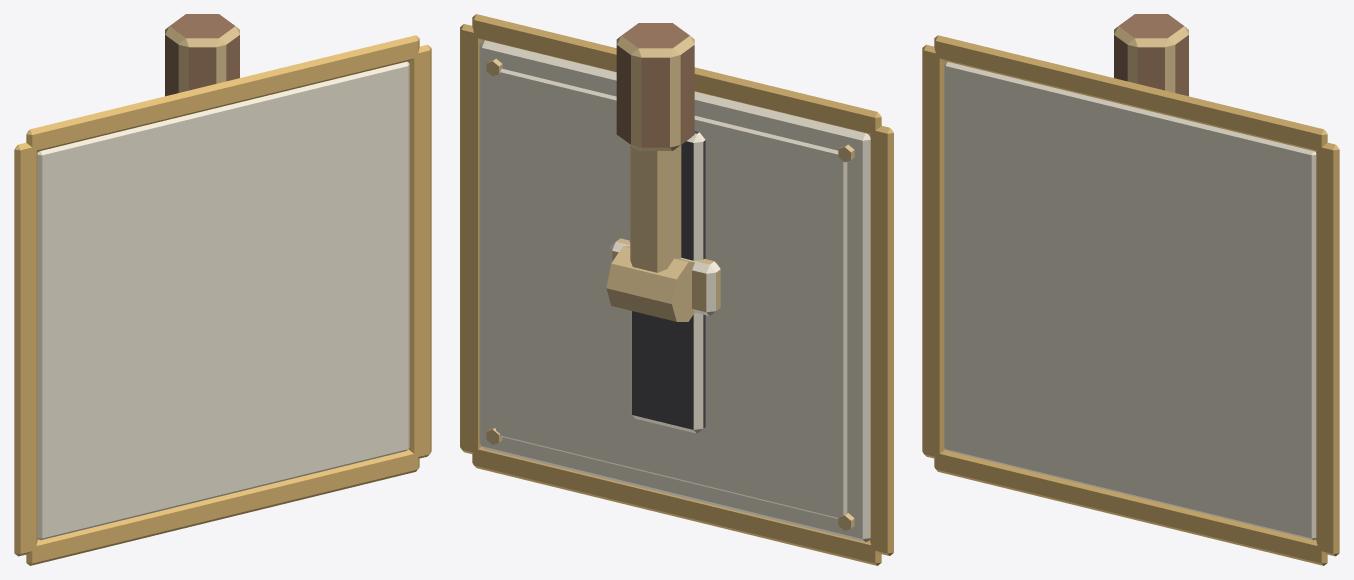
The model's file is Ctl_Lever.fbx.
The picture shows the model from 3 angles, left to right: view 1: azimuth 30°, elevation 25°; view 2: azimuth 150°, elevation 25°; view 3: azimuth 330°, elevation 25°; orthographic projection. The views are drawn at different scales.
Parts seen in each view (by area): view 1: Ctl_Lever, Ctl_Lever_Frame, Moving.003; view 2: Ctl_Lever, Ctl_Lever_Frame, Moving.003; view 3: Ctl_Lever, Ctl_Lever_Frame, Moving.003.
Boxes of the visible parts, left/top/right/bottom form: Ctl_Lever: left=37, top=61, right=409, bottom=540; Ctl_Lever_Frame: left=14, top=35, right=431, bottom=565; Moving.003: left=165, top=14, right=239, bottom=96; Ctl_Lever: left=479, top=40, right=870, bottom=542; Ctl_Lever_Frame: left=460, top=14, right=893, bottom=565; Moving.003: left=606, top=23, right=694, bottom=321; Ctl_Lever: left=944, top=61, right=1316, bottom=540; Ctl_Lever_Frame: left=922, top=35, right=1339, bottom=565; Moving.003: left=1114, top=14, right=1188, bottom=96.
Bounding box in the file's own units: 1.06 × 1.16 × 0.1825.
